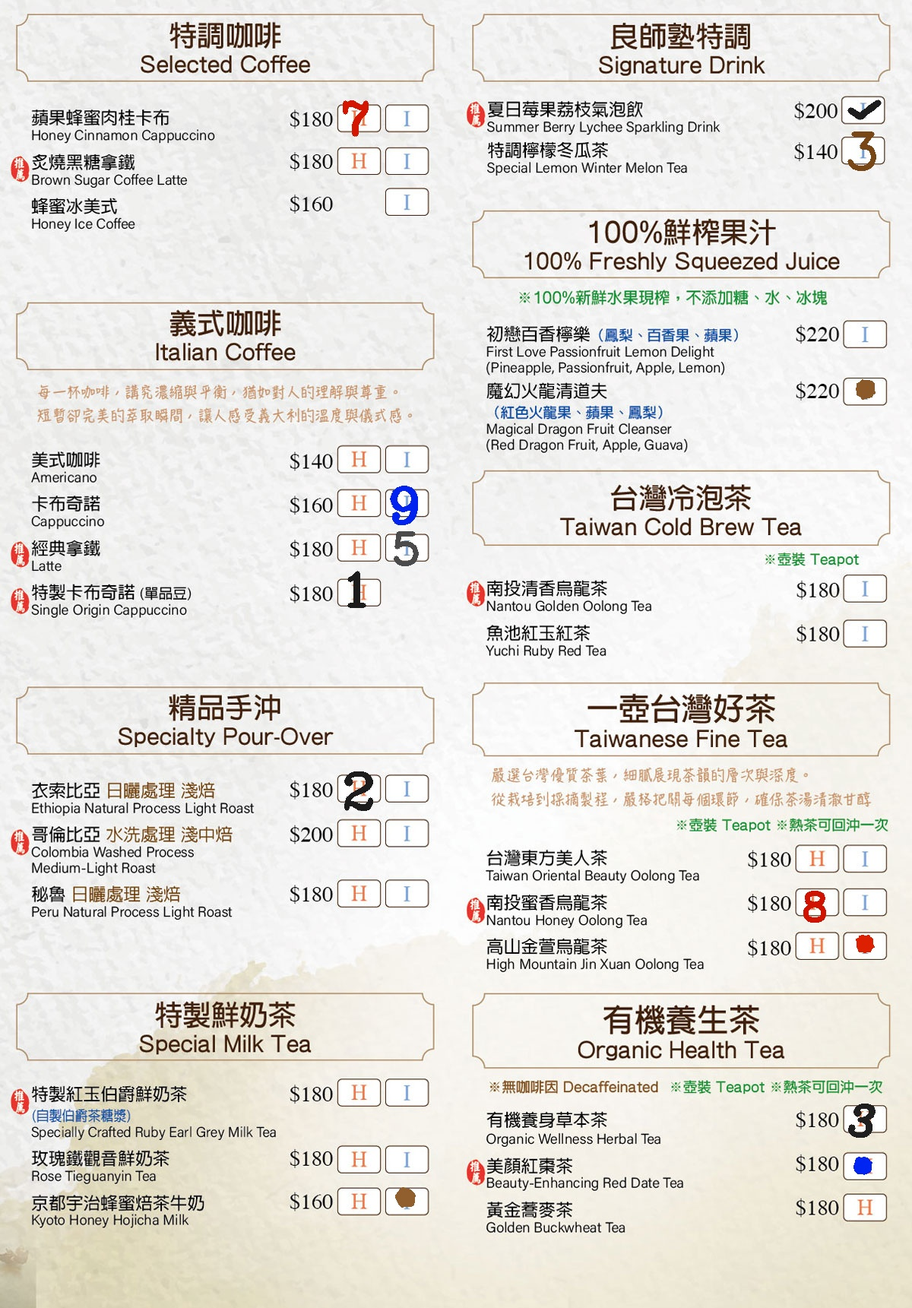marked_circle: (846, 1153, 885, 1177), (844, 934, 883, 958), (845, 378, 884, 402), (387, 1189, 426, 1212)
marked_number_1: (339, 579, 378, 603)
marked_number_2: (339, 776, 378, 800)
marked_number_3: (842, 138, 881, 162), (846, 1106, 885, 1129)
marked_number_5: (388, 535, 426, 559)
marked_number_7: (339, 106, 378, 129)
marked_number_8: (799, 892, 838, 915)
marked_number_9: (388, 491, 426, 515)
marked_tick: (844, 98, 883, 122)
